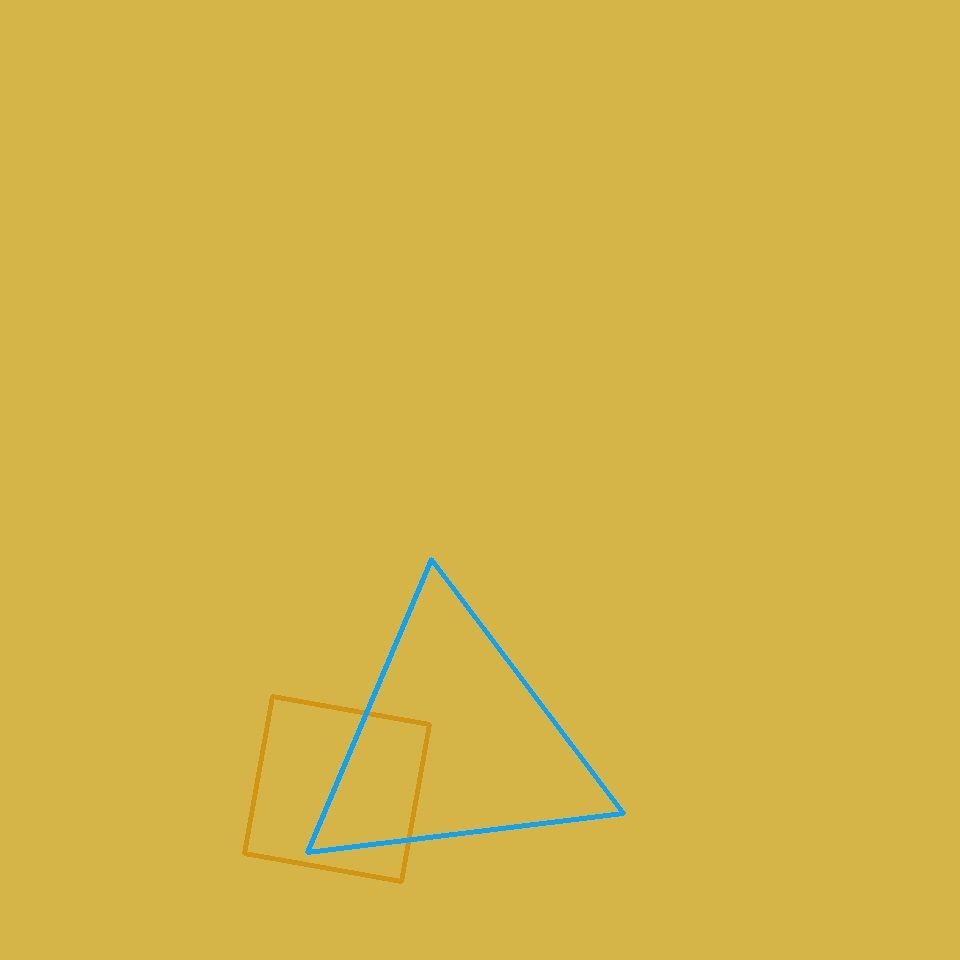circle: (296, 596, 612, 888)
square: (244, 696, 430, 882)
